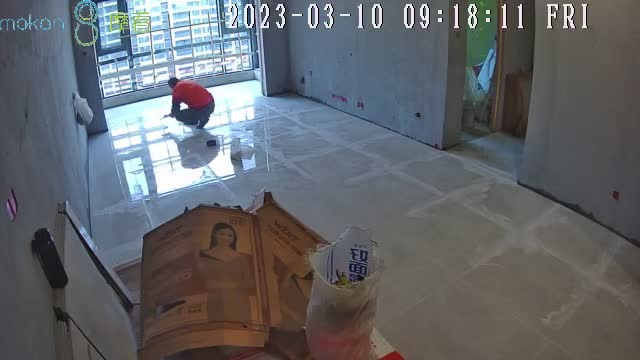people: (166, 76, 215, 130)
window: (88, 1, 257, 100)
